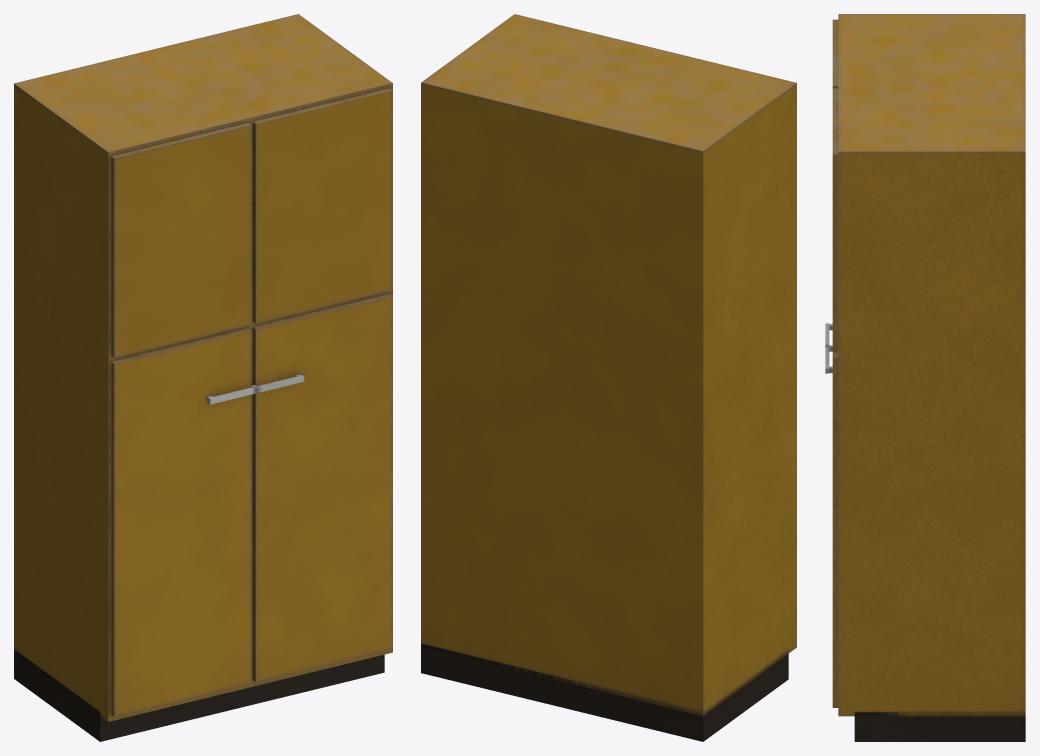
The model's file is H_Pantry.fbx.
3 views of the same model, side by side, from view 1: azimuth 30°, elevation 25°; view 2: azimuth 150°, elevation 25°; view 3: azimuth 270°, elevation 25° (orthographic).
Visible parts, largest first — view 1: H_Pantry; view 2: H_Pantry; view 3: H_Pantry.
Part boxes in pixels (bbox=[...]): H_Pantry: bbox=[14, 14, 392, 741]; H_Pantry: bbox=[421, 14, 796, 741]; H_Pantry: bbox=[825, 14, 1025, 741].
Bounding box in the file's own units: 400 × 800 × 246.
1 material, 1 textured.
